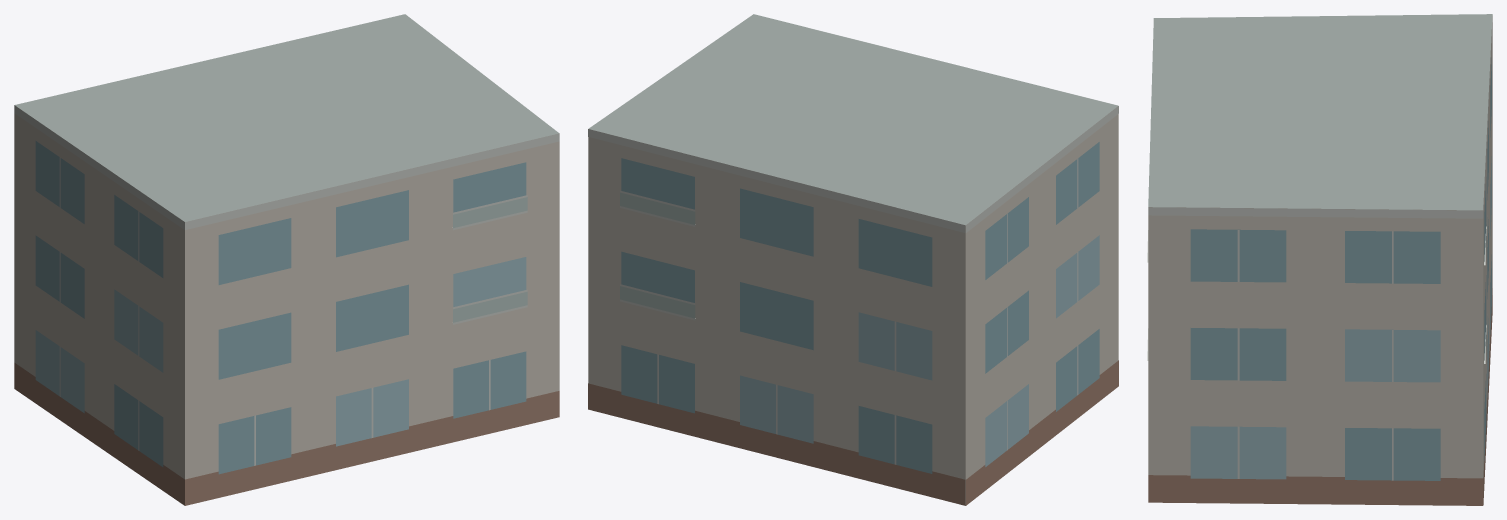
Rendered from survey-upis-32897817.glb.
3 renders of one model, left to right at view 1: azimuth 30°, elevation 25°; view 2: azimuth 150°, elevation 25°; view 3: azimuth 270°, elevation 25°, orthographic. The views are drawn at different scales.
Visible parts, largest first — view 1: survey-upis-32897817.tmp; view 2: survey-upis-32897817.tmp; view 3: survey-upis-32897817.tmp.
Part boxes in pixels (x1,y1,x2,y2): survey-upis-32897817.tmp: [14, 14, 559, 505]; survey-upis-32897817.tmp: [588, 14, 1118, 505]; survey-upis-32897817.tmp: [1147, 14, 1492, 505].
Size of the model in its own units: 12.27 by 8.6 by 9.12.
